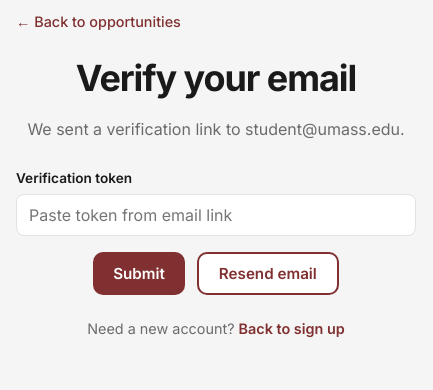
Test: VerifyEmailPage › resends the verification email
Click the button "Resend email".
click(268, 274)  # box x1=197 y1=252 x2=339 y2=295
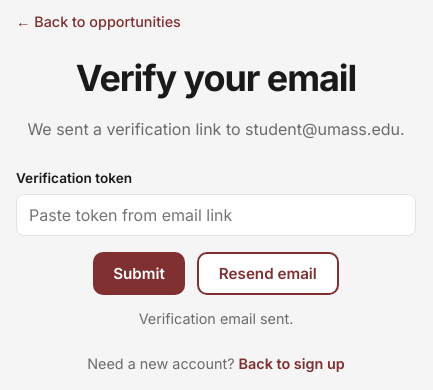
Expected: the text "Verification email sent." is shown, x1=139 y1=310 x2=293 y2=327
